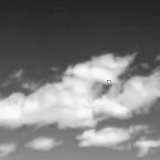Target: (106, 79, 112, 84)
